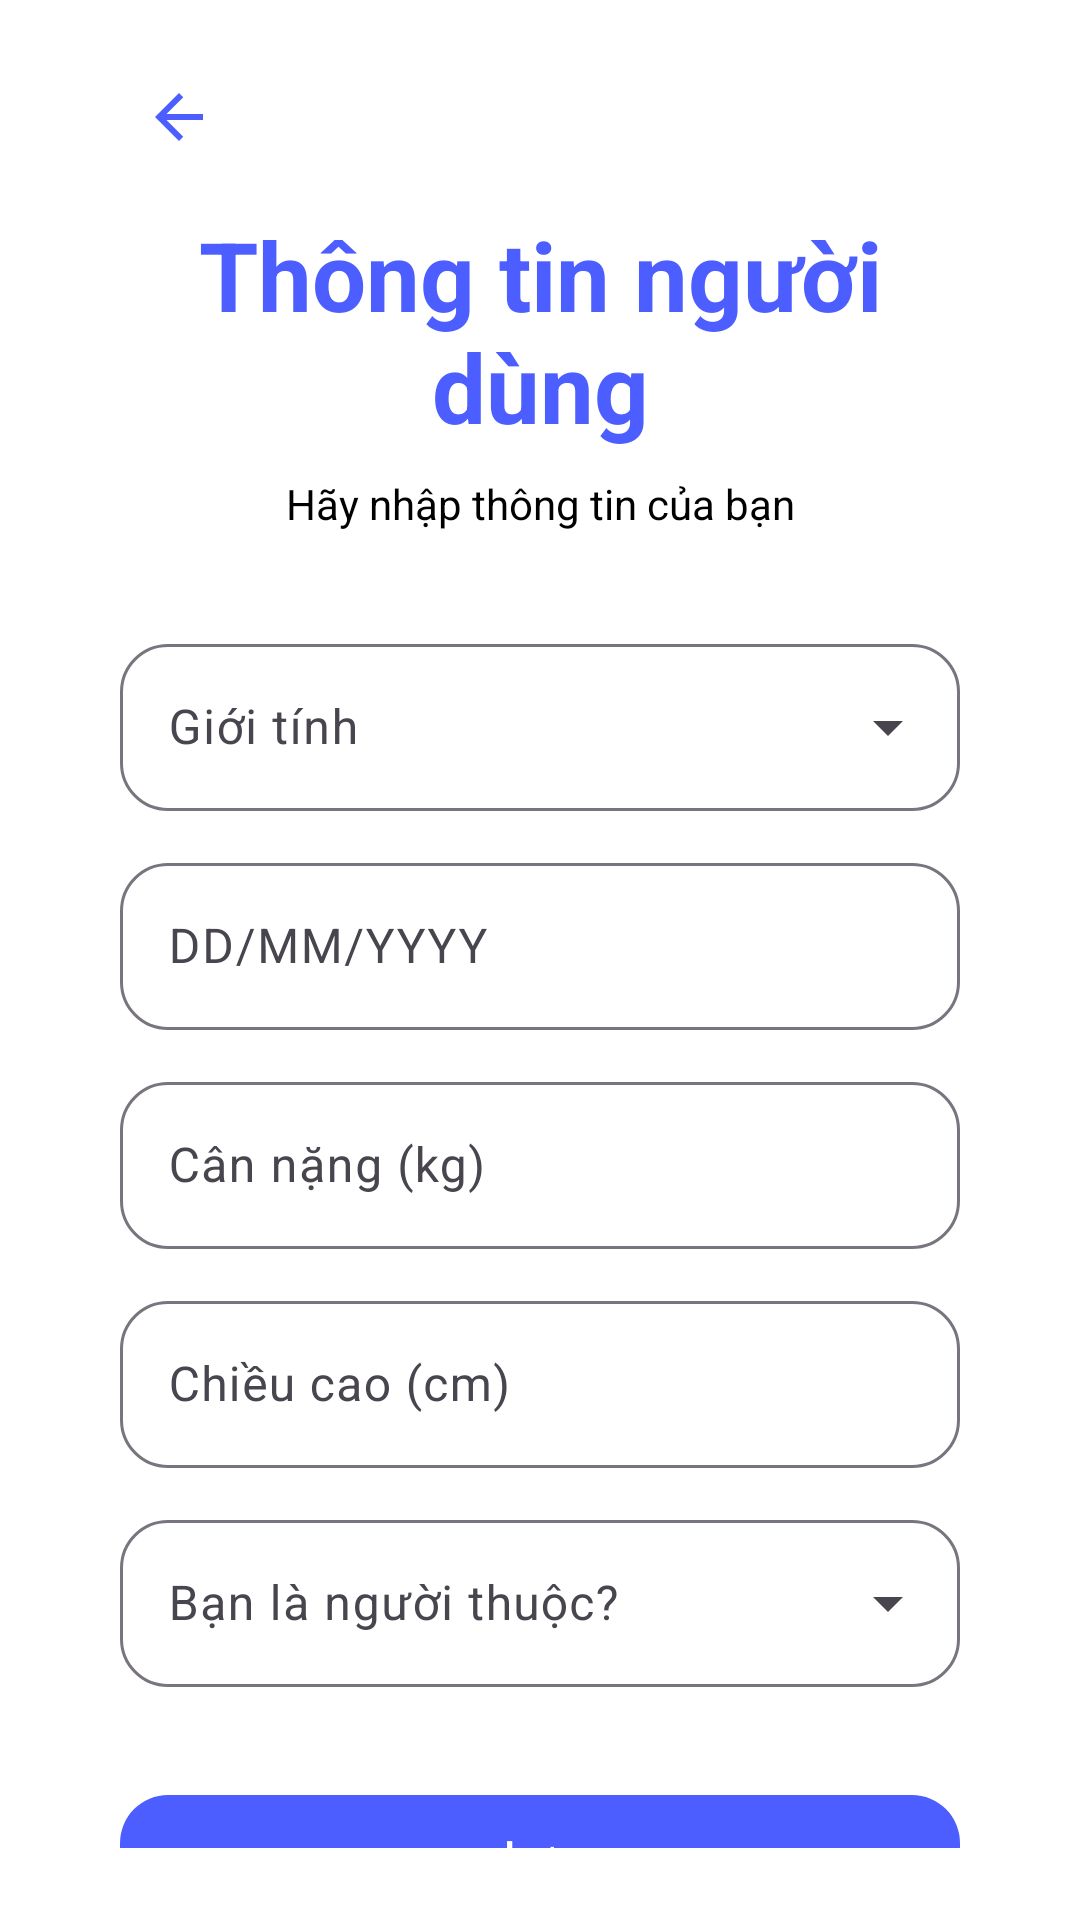

Icons on this 1080×1920 Android screen, each with the point to tap as point (x, y):
Back: point (179, 117)
